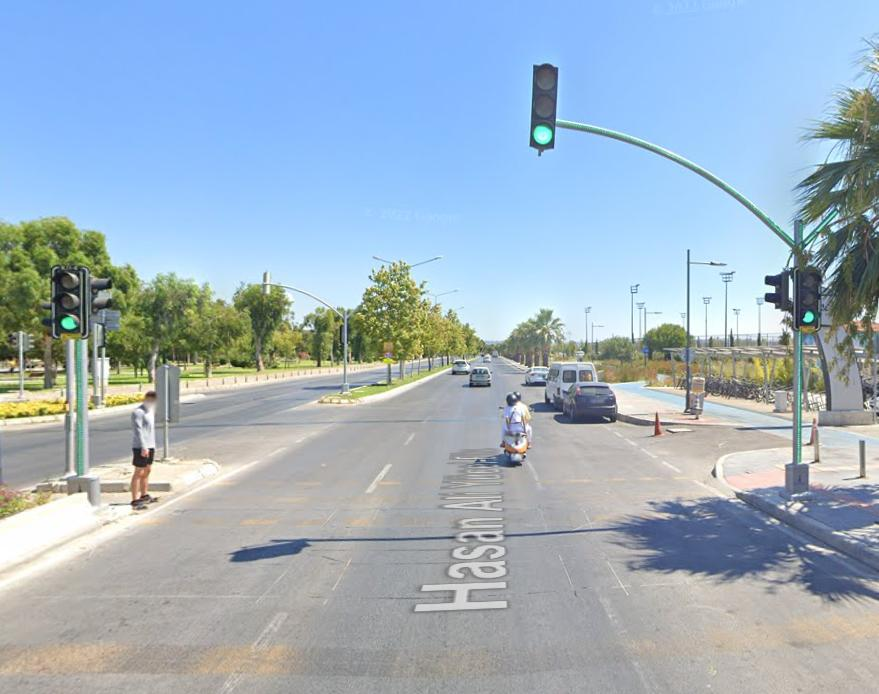greenlight: (51, 263, 90, 339), (531, 67, 556, 151), (790, 268, 822, 332)
